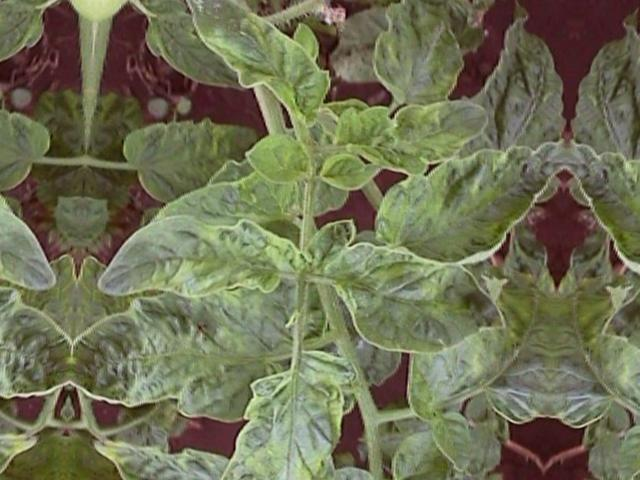Tomato leaf mosaic virus: (367, 119, 563, 265), (313, 237, 510, 358), (94, 205, 298, 309), (172, 0, 334, 123), (76, 305, 257, 404), (219, 350, 351, 480), (332, 92, 492, 176), (371, 0, 465, 108), (242, 129, 316, 184), (430, 408, 481, 469)
